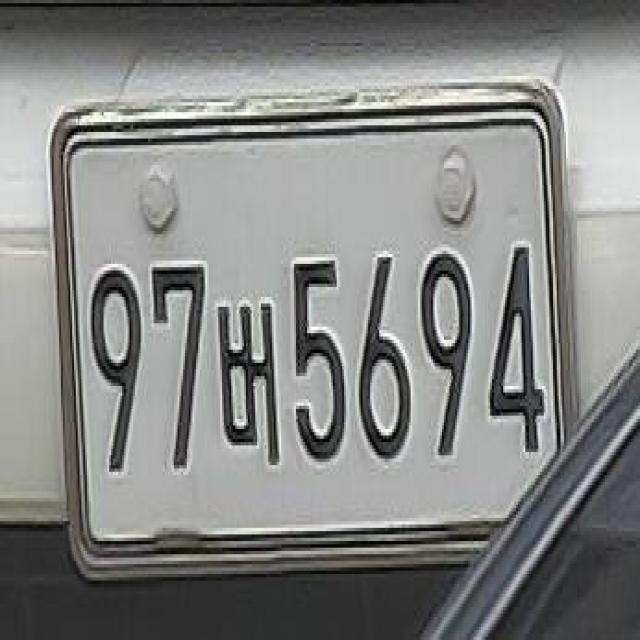4: (484, 232, 548, 456)
5: (284, 252, 350, 476)
6: (355, 248, 414, 472)
7: (148, 255, 208, 482)
9: (415, 240, 475, 466), (86, 254, 146, 478)
beo: (213, 288, 283, 476)
license_plate: (70, 109, 562, 552)
